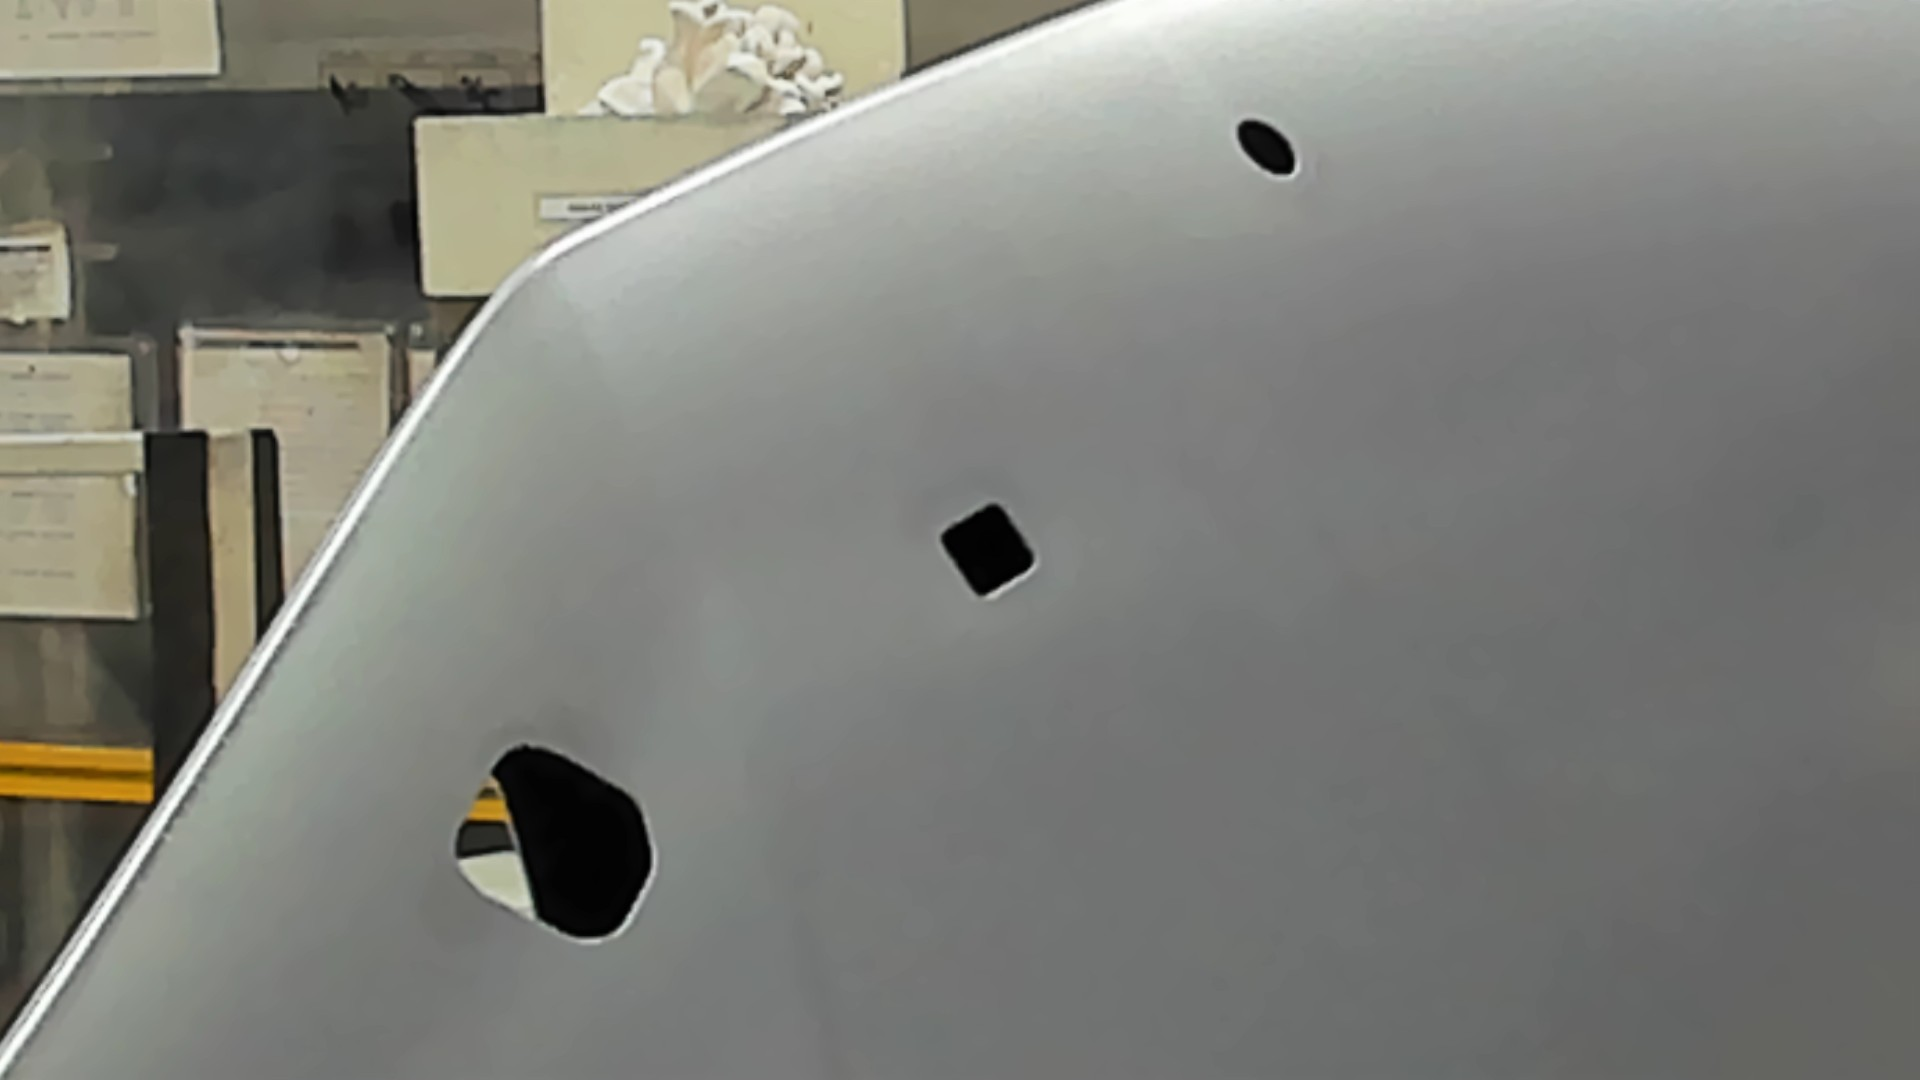capo: (1043, 185, 1920, 1080)
chico: (1230, 115, 1298, 183)
grande: (447, 735, 663, 955)
mediano: (932, 498, 1040, 604)
